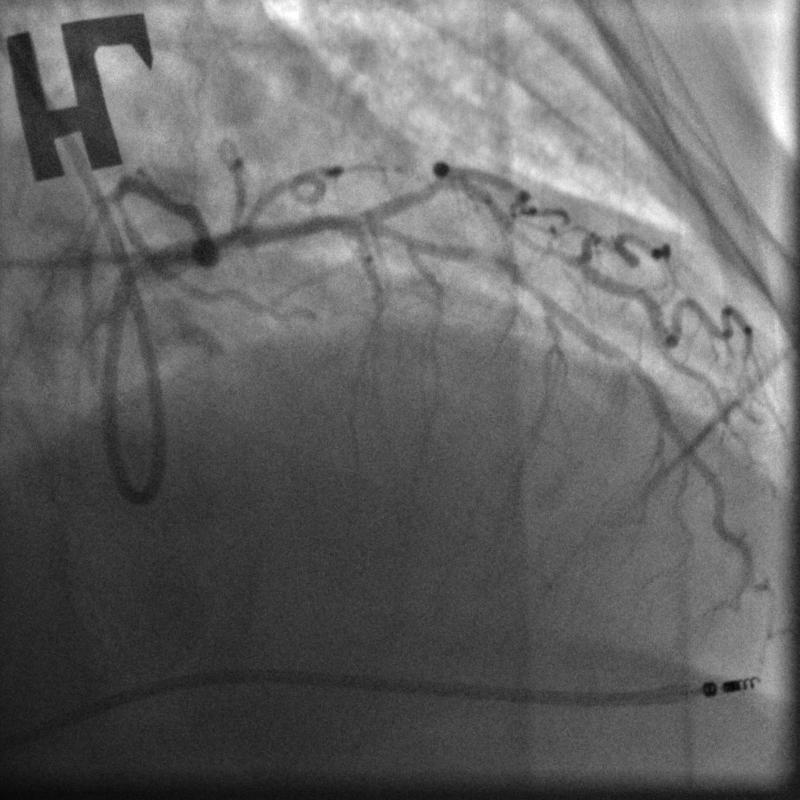Stenosis: (447, 240, 521, 280)
